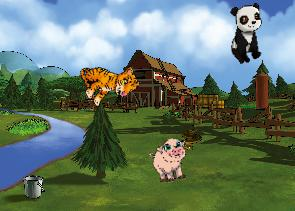panda: (229, 3, 264, 64)
pig: (147, 136, 193, 185)
tiger: (74, 48, 142, 113)
